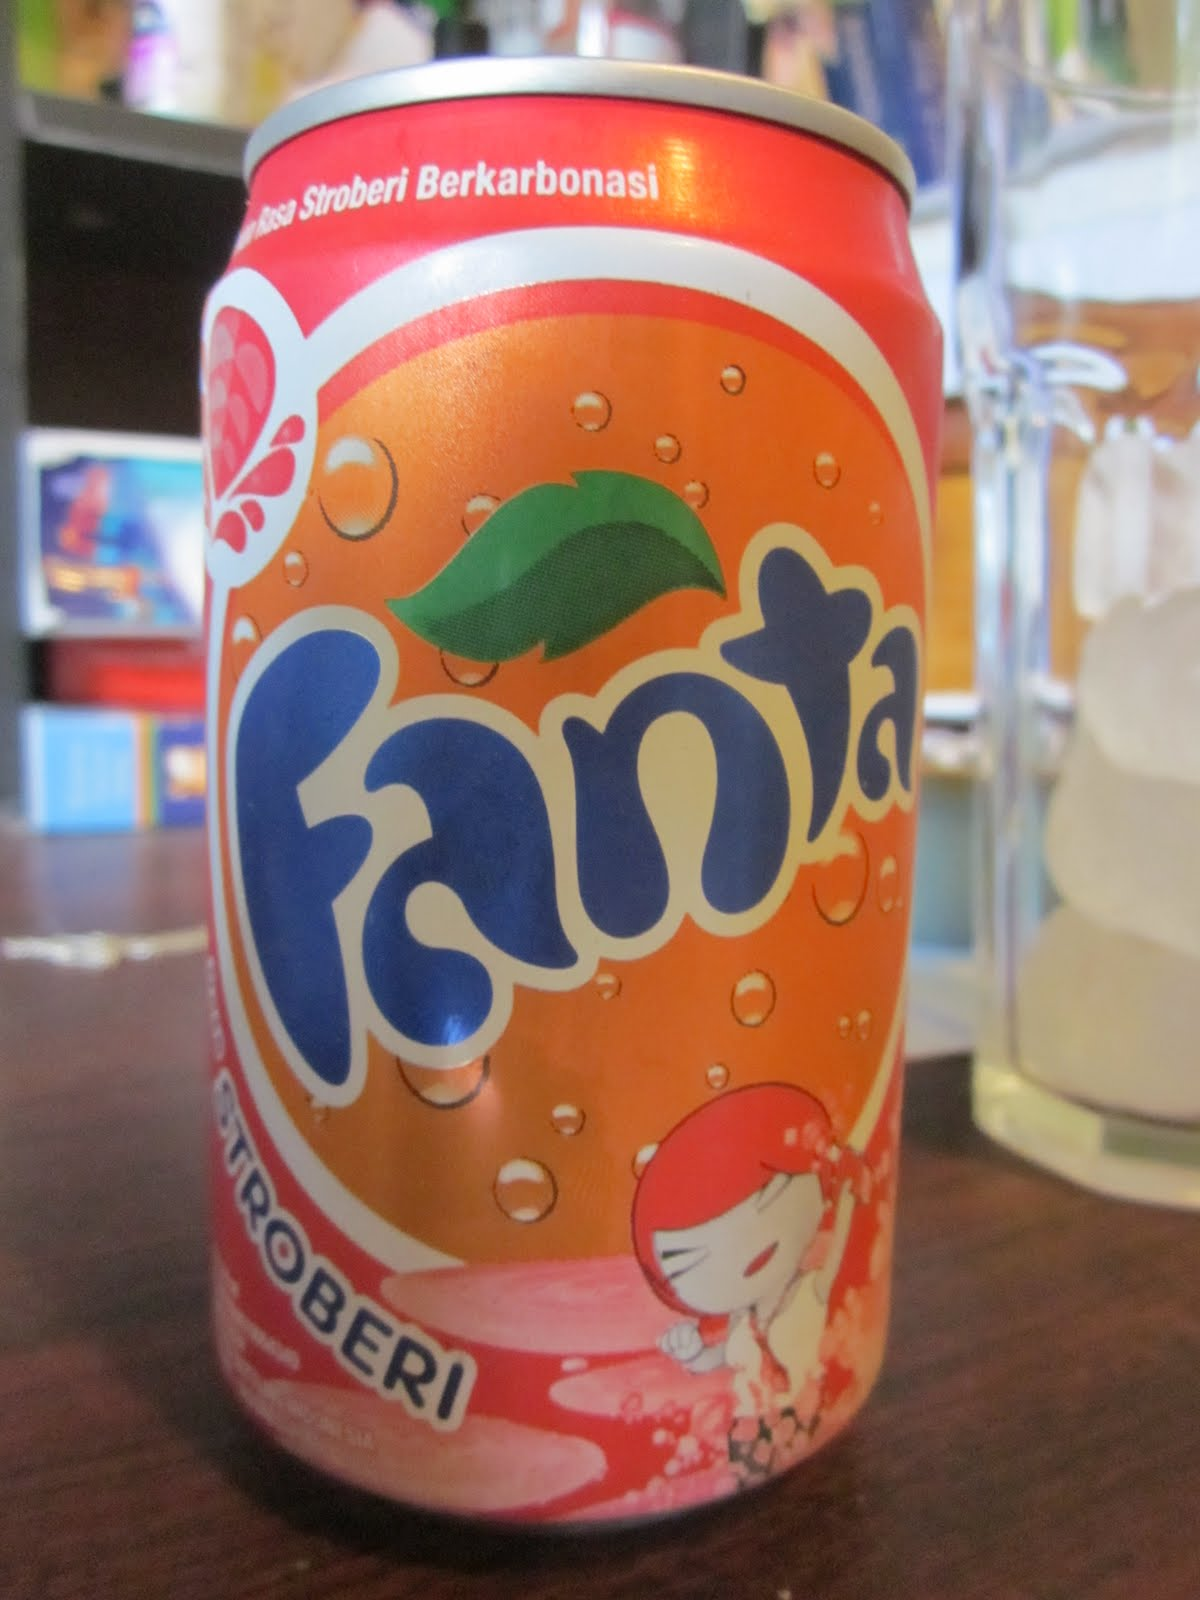fanta: (216, 81, 895, 1533)
